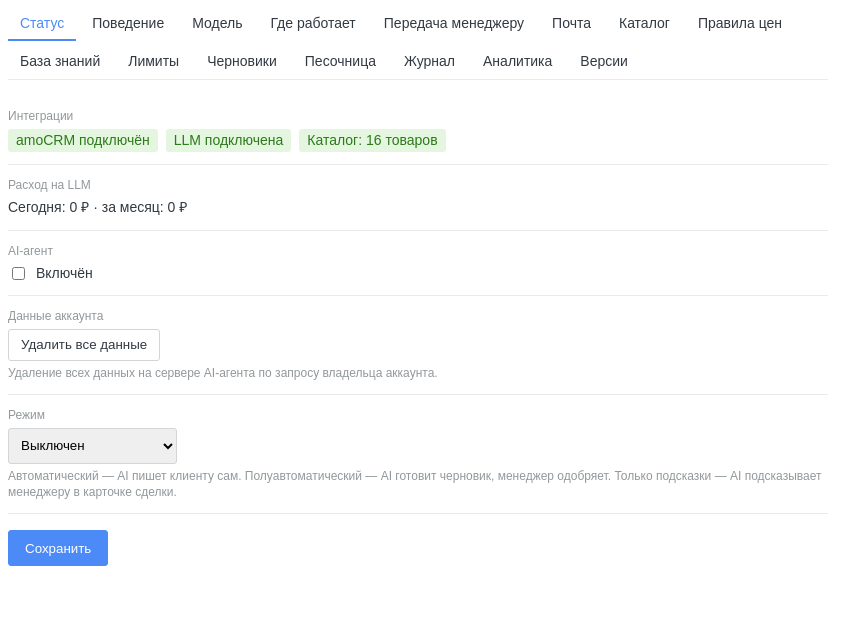
it: вкладка «Аналитика» › плитки, причины передач, по дням и расход по месяцам; смена периода — новый запрос
The width and height of the screenshot is (845, 623).
Later steps or results of the test are not shown.
Click the button "Аналитика" at x=518, y=62, box [471, 45, 564, 79]
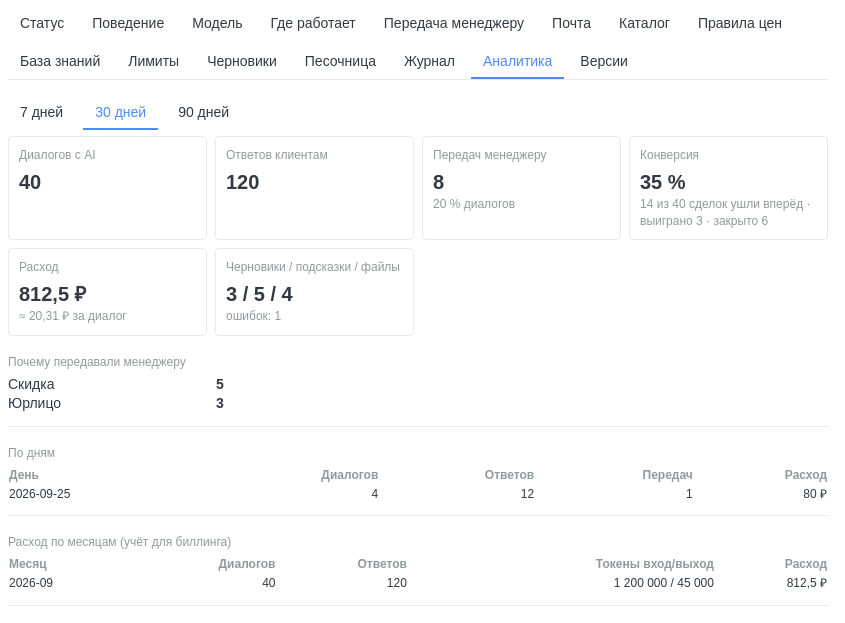
Check: the text "35 %" is shown, box [640, 171, 686, 193]
Check: the text "14 из 40 сделок ушли вперёд" is shown, box [640, 197, 810, 228]
Check: the text "Скидка" is shown, box [8, 376, 54, 392]
